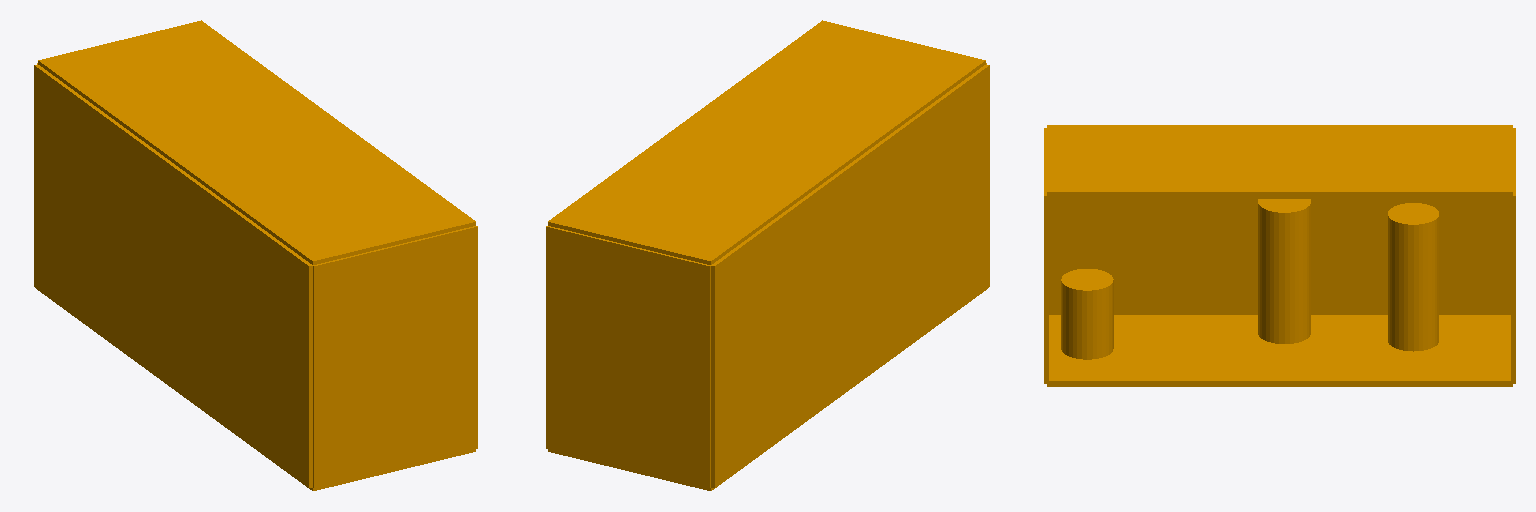
The robot description file, URDF, robot "syn_can_cabinet_943":
<?xml version="1.0" ?>
<robot name="syn_can_cabinet_943">
    <link concave="yes" name="base_link">
        <inertial>
            <origin rpy="0 0 0" xyz="0 0 0"/>
            <mass value="0.0"/>
            <inertia ixx="1e-08" ixy="0" ixz="0" iyy="1e-08" iyz="0" izz="1e-08"/>
        </inertial>
        <visual>
            <origin xyz="0 0 0" rpy="0 0 0" />
            <geometry>
                <mesh filename="syn_can_cabinet_943.obj" scale="1.000000 1.000000 1.000000"/>
            </geometry>         
        </visual>

        <collision concave="yes">
            <origin xyz="0 0 0" rpy="0 0 0"/>
            <geometry>
                <mesh filename="syn_can_cabinet_943.obj" scale="1.000000 1.000000 1.000000"/>
            </geometry>
        </collision>
    </link>
</robot>
    

--- Render facts (derived) ---
Views: 3 orthographic renders of the robot side by side, from view 1: azimuth 30°, elevation 25°; view 2: azimuth 150°, elevation 25°; view 3: azimuth 270°, elevation 25°.
Robot: syn_can_cabinet_943 — 1 links, 0 joints (none); root link base_link; default pose: every joint at zero.
Visible links, largest first — view 1: base_link; view 2: base_link; view 3: base_link.
Boxes of the visible links, x1,y1,x2,y2 form: base_link: [34, 20, 477, 490]; base_link: [546, 20, 989, 490]; base_link: [1044, 125, 1515, 386].
Size in the robot's own frame: 0.1477 by 0.4246 by 0.1942 metres.
Meshes: 1 distinct files referenced, 1 mesh visuals loaded (1 OBJ).
